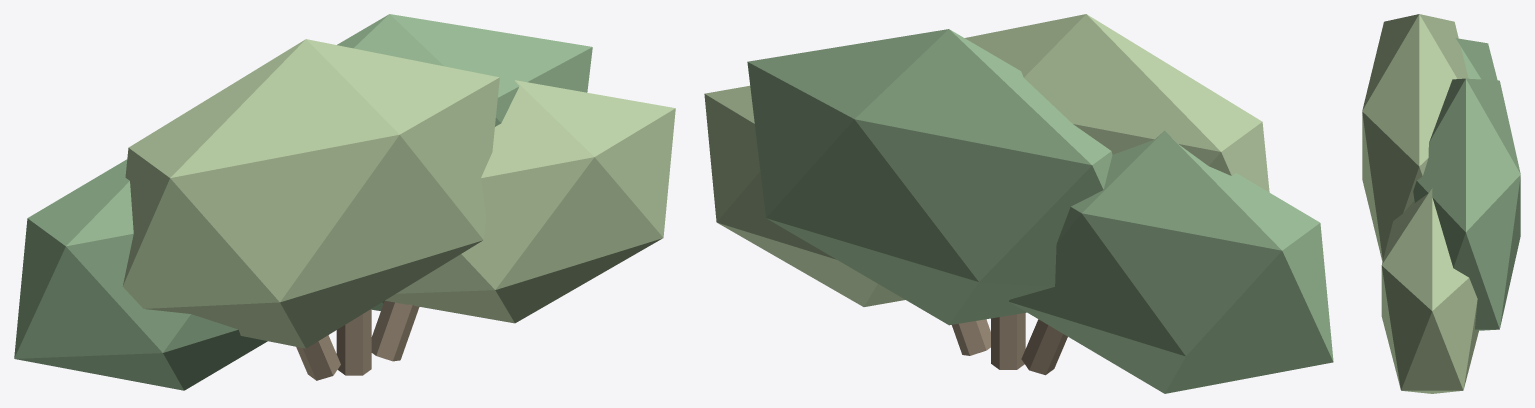
Rendered from SHRUB_COASTAL_LOW_001_LOD_GAMEPLAY.glb.
3 views of the same model, side by side, from view 1: azimuth 30°, elevation 25°; view 2: azimuth 150°, elevation 25°; view 3: azimuth 270°, elevation 25° (orthographic). The views are drawn at different scales.
Parts seen in each view (by area): view 1: SHRUB_COASTAL_LOW_001_LOD_GAMEPLAY_CLUSTER_002, SHRUB_COASTAL_LOW_001_LOD_GAMEPLAY_CLUSTER_004, SHRUB_COASTAL_LOW_001_LOD_GAMEPLAY_CLUSTER_001, SHRUB_COASTAL_LOW_001_LOD_GAMEPLAY_CLUSTER_003, SHRUB_COASTAL_LOW_001_LOD_GAMEPLAY_BRANCH_003, SHRUB_COASTAL_LOW_001_LOD_GAMEPLAY_BRANCH_002, SHRUB_COASTAL_LOW_001_LOD_GAMEPLAY_BRANCH_001; view 2: SHRUB_COASTAL_LOW_001_LOD_GAMEPLAY_CLUSTER_003, SHRUB_COASTAL_LOW_001_LOD_GAMEPLAY_CLUSTER_001, SHRUB_COASTAL_LOW_001_LOD_GAMEPLAY_CLUSTER_002, SHRUB_COASTAL_LOW_001_LOD_GAMEPLAY_CLUSTER_004, SHRUB_COASTAL_LOW_001_LOD_GAMEPLAY_BRANCH_002, SHRUB_COASTAL_LOW_001_LOD_GAMEPLAY_BRANCH_001, SHRUB_COASTAL_LOW_001_LOD_GAMEPLAY_BRANCH_003; view 3: SHRUB_COASTAL_LOW_001_LOD_GAMEPLAY_CLUSTER_003, SHRUB_COASTAL_LOW_001_LOD_GAMEPLAY_CLUSTER_002, SHRUB_COASTAL_LOW_001_LOD_GAMEPLAY_CLUSTER_004, SHRUB_COASTAL_LOW_001_LOD_GAMEPLAY_CLUSTER_001.
Boxes of the visible parts, x1,y1,x2,y2 form: SHRUB_COASTAL_LOW_001_LOD_GAMEPLAY_CLUSTER_002: (122,39,499,348); SHRUB_COASTAL_LOW_001_LOD_GAMEPLAY_CLUSTER_004: (385,80,675,323); SHRUB_COASTAL_LOW_001_LOD_GAMEPLAY_CLUSTER_001: (14,159,267,390); SHRUB_COASTAL_LOW_001_LOD_GAMEPLAY_CLUSTER_003: (337,14,592,310); SHRUB_COASTAL_LOW_001_LOD_GAMEPLAY_BRANCH_003: (371,301,419,361); SHRUB_COASTAL_LOW_001_LOD_GAMEPLAY_BRANCH_002: (336,309,371,375); SHRUB_COASTAL_LOW_001_LOD_GAMEPLAY_BRANCH_001: (296,335,340,380); SHRUB_COASTAL_LOW_001_LOD_GAMEPLAY_CLUSTER_003: (747,29,1112,325); SHRUB_COASTAL_LOW_001_LOD_GAMEPLAY_CLUSTER_001: (1009,130,1333,393); SHRUB_COASTAL_LOW_001_LOD_GAMEPLAY_CLUSTER_002: (965,14,1269,192); SHRUB_COASTAL_LOW_001_LOD_GAMEPLAY_CLUSTER_004: (704,85,904,306); SHRUB_COASTAL_LOW_001_LOD_GAMEPLAY_BRANCH_002: (991,313,1025,369); SHRUB_COASTAL_LOW_001_LOD_GAMEPLAY_BRANCH_001: (1021,319,1067,375); SHRUB_COASTAL_LOW_001_LOD_GAMEPLAY_BRANCH_003: (952,319,990,355); SHRUB_COASTAL_LOW_001_LOD_GAMEPLAY_CLUSTER_003: (1413,78,1520,330); SHRUB_COASTAL_LOW_001_LOD_GAMEPLAY_CLUSTER_002: (1362,14,1468,261); SHRUB_COASTAL_LOW_001_LOD_GAMEPLAY_CLUSTER_004: (1381,188,1478,393); SHRUB_COASTAL_LOW_001_LOD_GAMEPLAY_CLUSTER_001: (1455,38,1497,80).
Bounding box in the file's own units: 2.45 × 1.38 × 0.6138.
